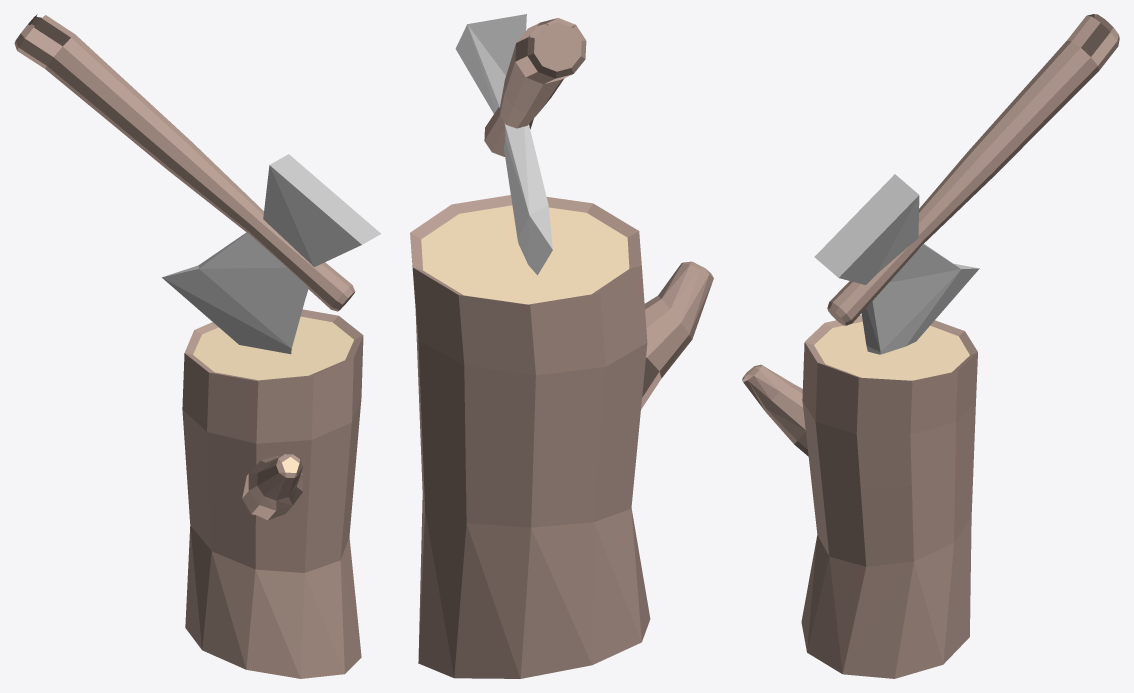
Rendered from log.glb.
3 views of the same model, side by side, from view 1: azimuth 30°, elevation 25°; view 2: azimuth 150°, elevation 25°; view 3: azimuth 270°, elevation 25° (orthographic). The views are drawn at different scales.
Visible parts, largest first — view 1: model.003; view 2: model.003; view 3: model.003.
Part boxes in pixels (<box>): model.003: <box>14,14,380,678</box>; model.003: <box>410,14,713,678</box>; model.003: <box>742,14,1119,678</box>.
Bounding box in the file's own units: 0.4226 × 1.04 × 0.6237.
